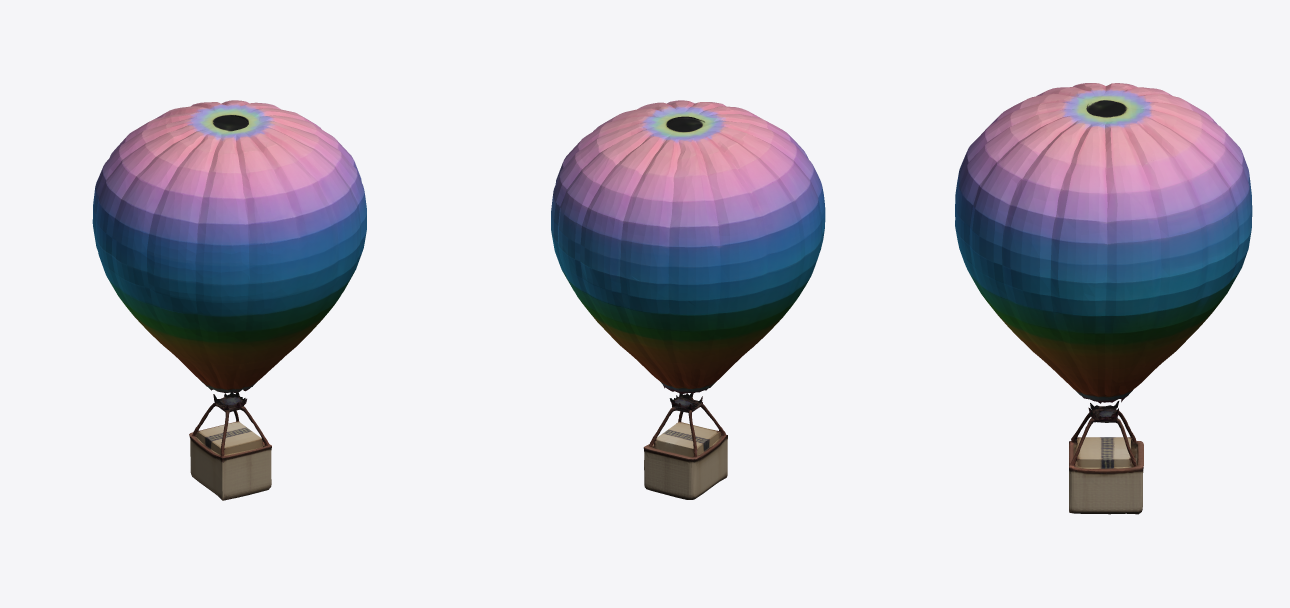
File: source.glb
The picture shows the model from 3 angles, left to right: view 1: azimuth 30°, elevation 25°; view 2: azimuth 150°, elevation 25°; view 3: azimuth 270°, elevation 25°; orthographic projection. The views are drawn at different scales.
Parts seen in each view (by area): view 1: world; view 2: world; view 3: world.
Part boxes in pixels (left/top/right/bottom): world: left=92, top=100, right=366, bottom=500; world: left=551, top=100, right=825, bottom=499; world: left=955, top=83, right=1252, bottom=514.
Bounding box in the file's own units: 0.787 × 1.1 × 0.7862.
Materials: 2 (1 with a texture image).
